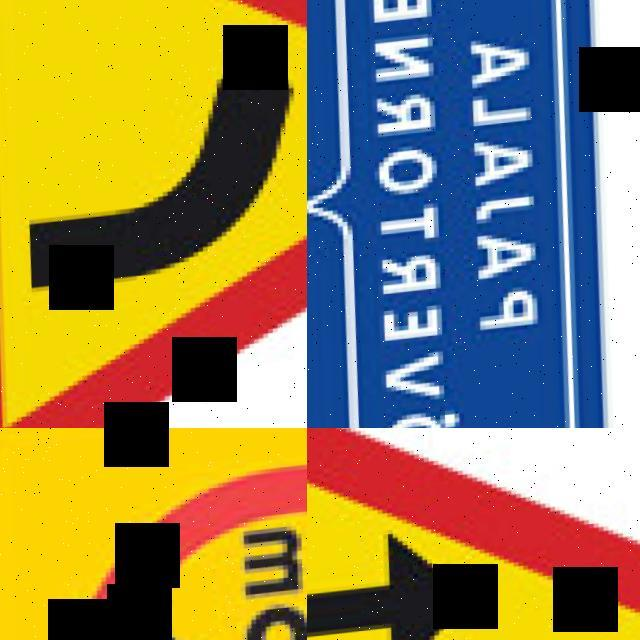106: (307, 0, 638, 428)
137: (0, 0, 307, 428)
150: (307, 428, 640, 640)
82: (0, 428, 307, 640)
two way traffic: (307, 428, 640, 640)
